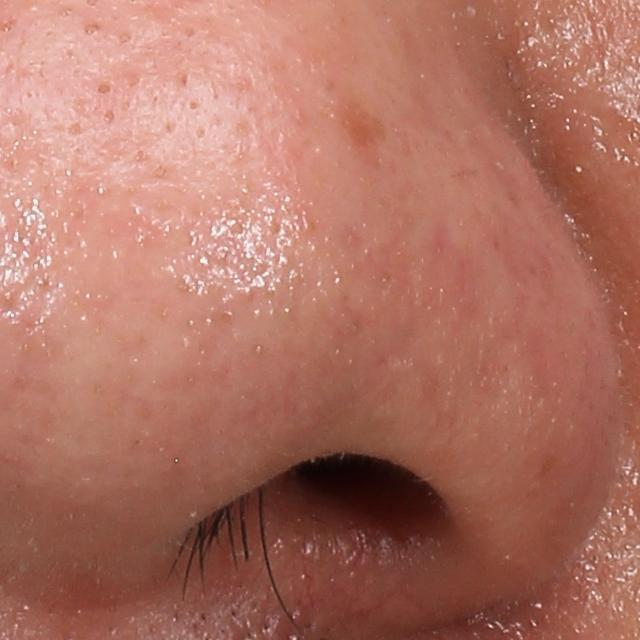comedo: (95, 78, 116, 99), (82, 20, 100, 36)
melasma: (323, 81, 397, 162)
